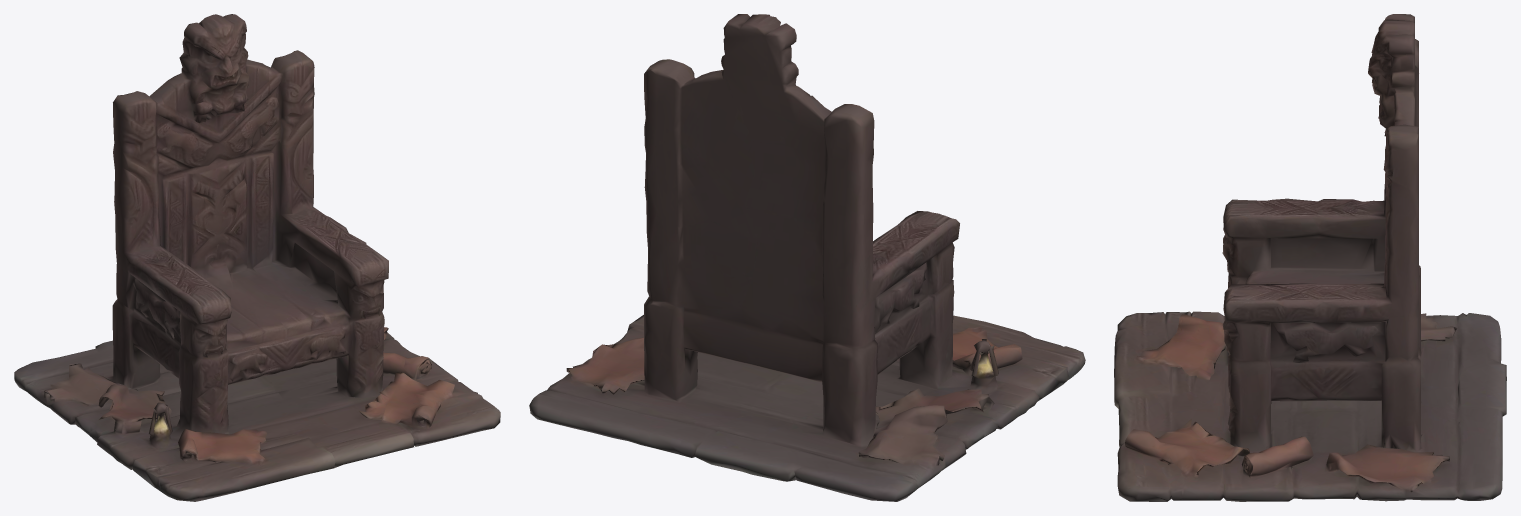
The model's file is traditional_council_throne.glb.
The picture shows the model from 3 angles, left to right: view 1: azimuth 30°, elevation 25°; view 2: azimuth 150°, elevation 25°; view 3: azimuth 270°, elevation 25°; orthographic projection. The views are drawn at different scales.
Visible parts, largest first — view 1: tripo_node_ff37eb9c-6b5e-40ac-a14f-6d1346c9a21f; view 2: tripo_node_ff37eb9c-6b5e-40ac-a14f-6d1346c9a21f; view 3: tripo_node_ff37eb9c-6b5e-40ac-a14f-6d1346c9a21f.
Boxes of the visible parts, x1,y1,x2,y2 form: tripo_node_ff37eb9c-6b5e-40ac-a14f-6d1346c9a21f: (14,14,500,501); tripo_node_ff37eb9c-6b5e-40ac-a14f-6d1346c9a21f: (529,14,1085,501); tripo_node_ff37eb9c-6b5e-40ac-a14f-6d1346c9a21f: (1114,14,1506,501).
Bounding box in the file's own units: 0.9819 × 1 × 0.9092.
1 material, 1 textured.
